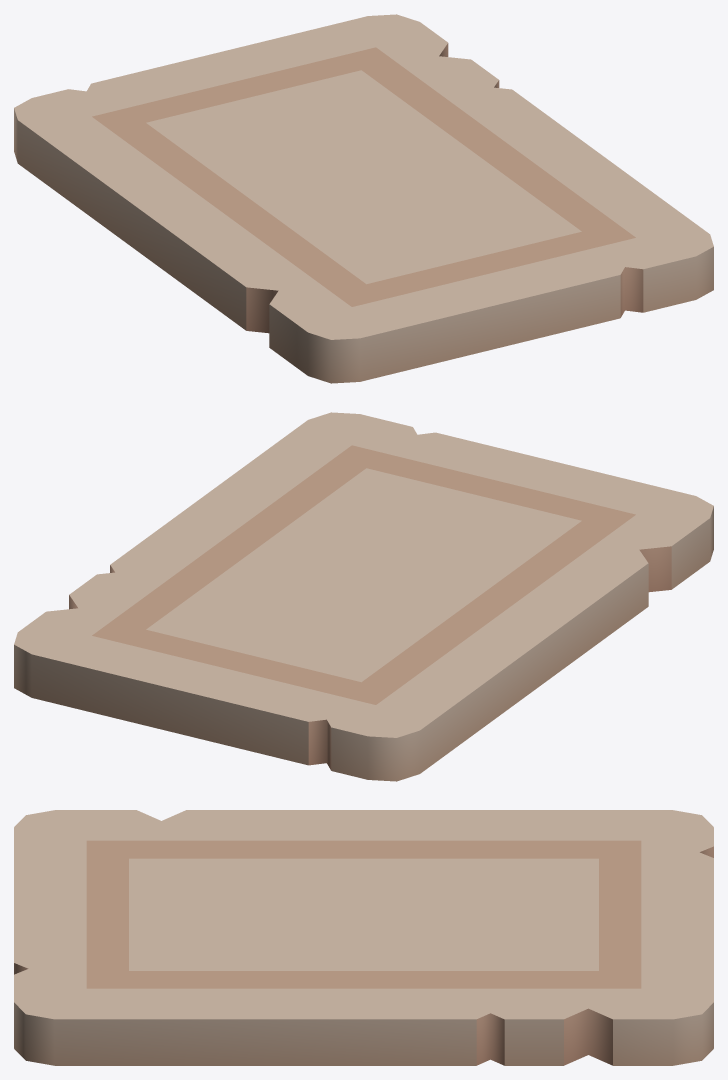
Rendered from cutting-board.glb.
The picture shows the model from 3 angles, top to bottom: view 1: azimuth 30°, elevation 25°; view 2: azimuth 150°, elevation 25°; view 3: azimuth 270°, elevation 25°; orthographic projection. The views are drawn at different scales.
Parts seen in each view (by area): view 1: cutting-board; view 2: cutting-board; view 3: cutting-board.
Boxes of the visible parts, <box> form: cutting-board: <box>14,14,713,383</box>; cutting-board: <box>14,412,713,781</box>; cutting-board: <box>14,810,713,1065</box>.
Bounding box in the file's own units: 0.58 × 0.06 × 0.82.
